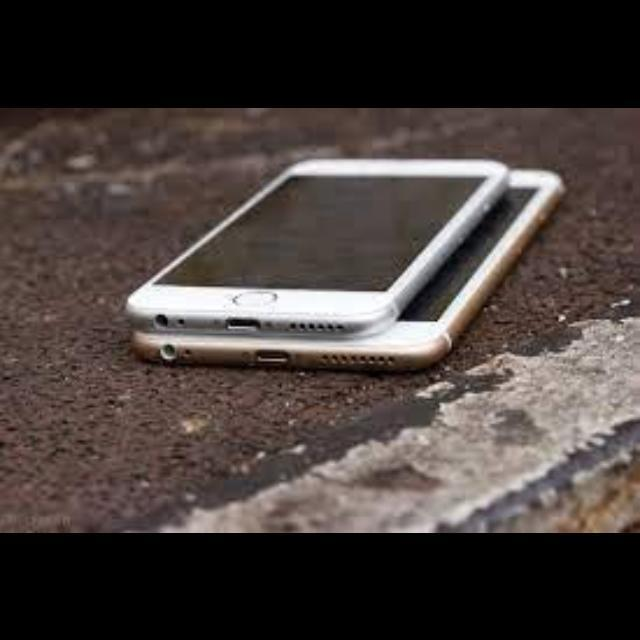phone: (147, 103, 570, 419)
